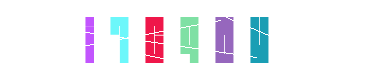6: (153, 0, 233, 80)
7: (114, 0, 194, 80)
C: (140, 0, 220, 80)
I: (92, 0, 172, 80)
Q: (144, 0, 224, 80)
Y: (219, 0, 299, 80)
